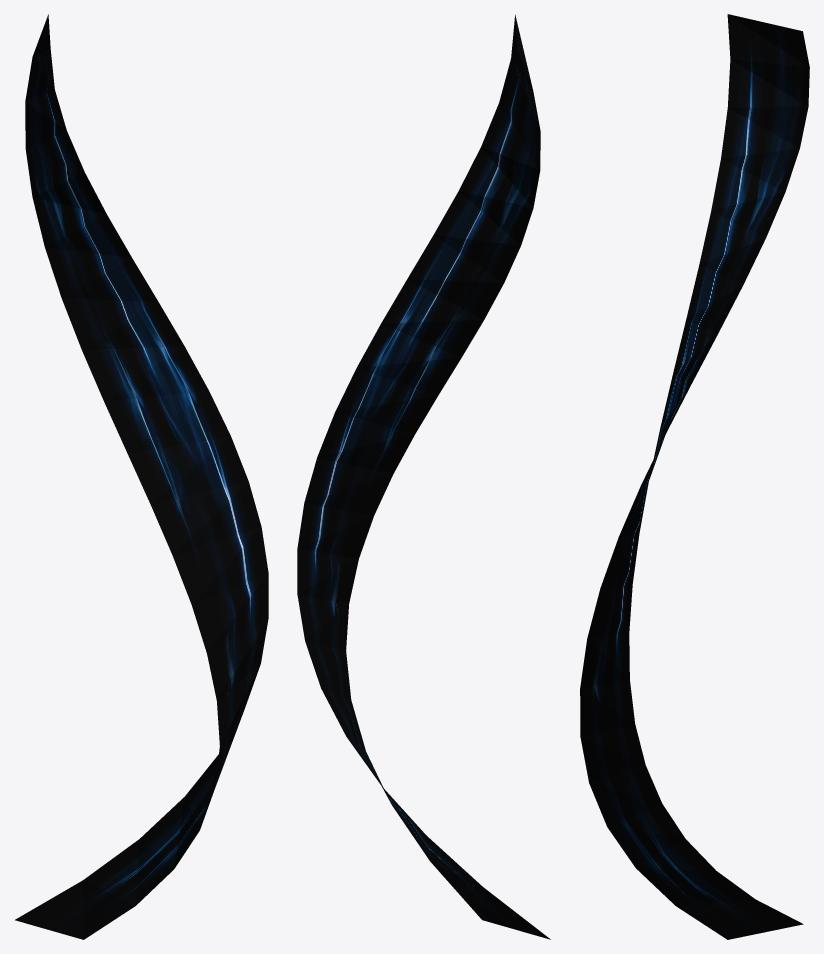
Rendered from tx_common_linghunshifang_fire.obj.
3 views of the same model, side by side, from view 1: azimuth 30°, elevation 25°; view 2: azimuth 210°, elevation 25°; view 3: azimuth 270°, elevation 25° (orthographic).
Visible parts, largest first — view 1: Plane01; view 2: Plane01; view 3: Plane01.
Boxes of the visible parts, <box> form: Plane01: <box>15,14,268,939</box>; Plane01: <box>297,14,550,939</box>; Plane01: <box>580,14,809,939</box>.
Size of the model in its own units: 53.62 by 271 by 62.13.
1 material, 1 textured.
